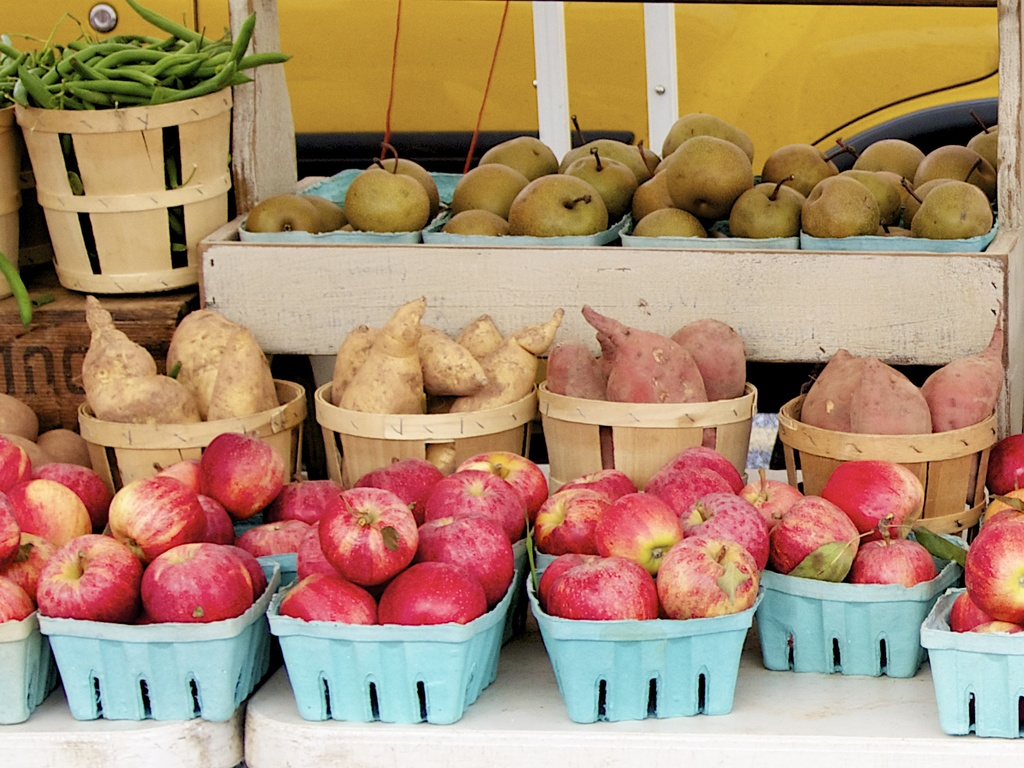Apple: (0, 430, 1023, 632), (246, 113, 1001, 232), (128, 543, 250, 638)
